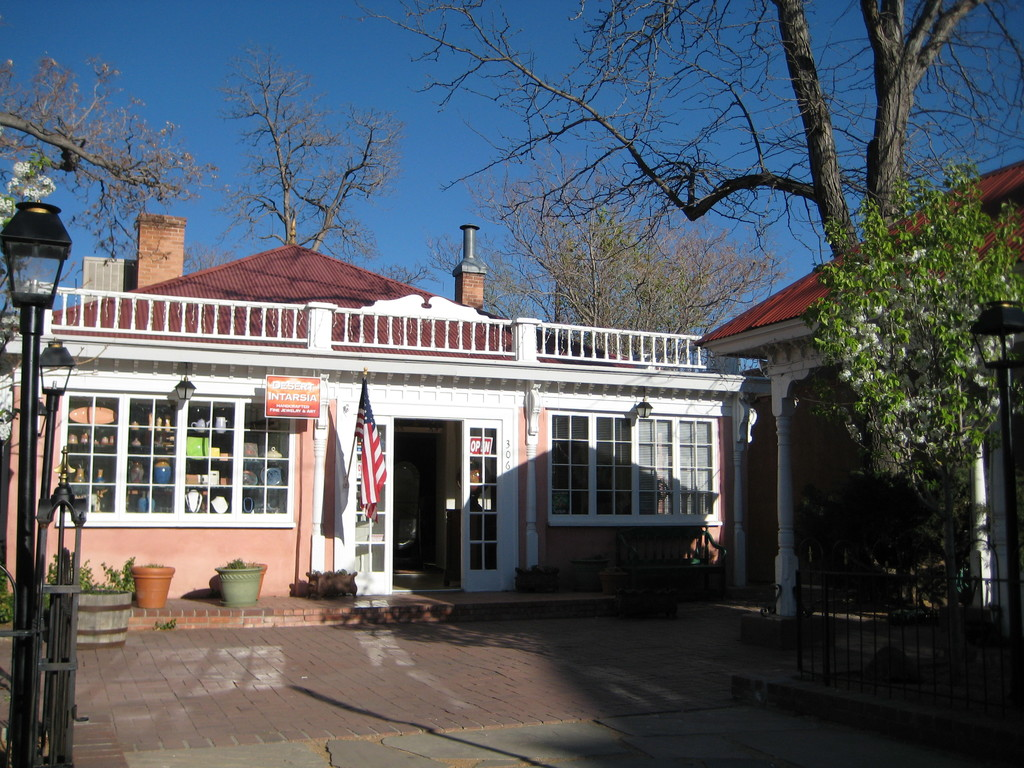Tree: (350, 0, 1023, 253), (801, 168, 1023, 611), (482, 160, 787, 331), (0, 53, 213, 264), (217, 46, 404, 241)
